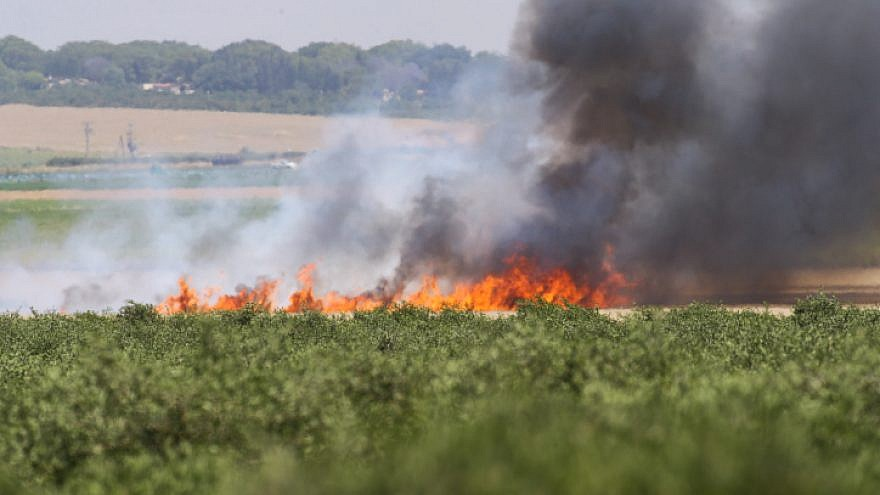fire: (122, 240, 700, 333)
